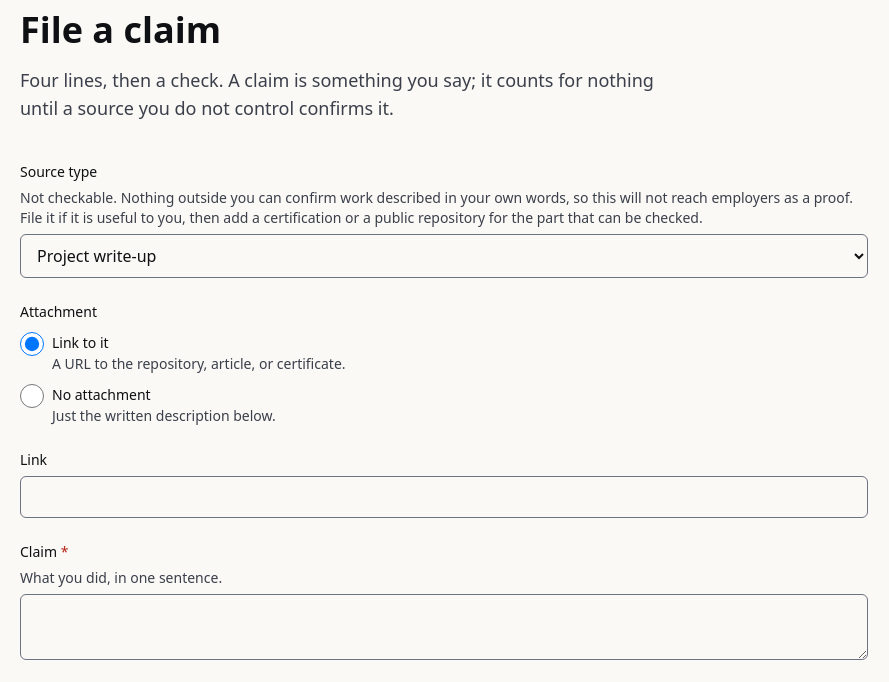
what the source type tells you about being checked › says how a certification gets checked once that is chosen
Select "Certification" in the dropdown labelled "Source type" at (444, 256), box x1=20 y1=234 x2=868 y2=278
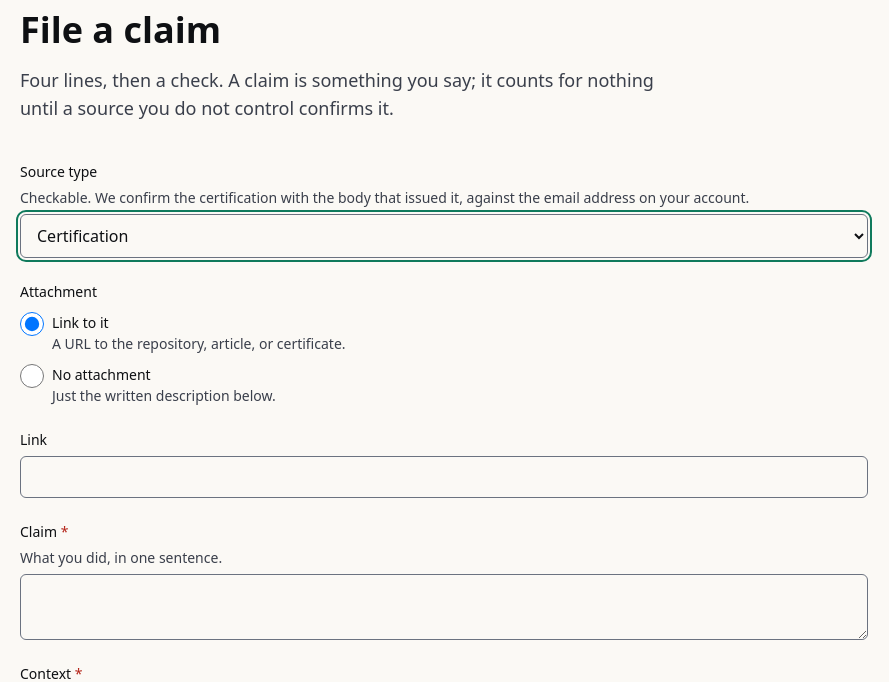
Now the text "confirm the certification with the body that issued it" is shown, box x1=20 y1=188 x2=749 y2=207
Now the text "Not checkable. Nothing outside you" is gone
